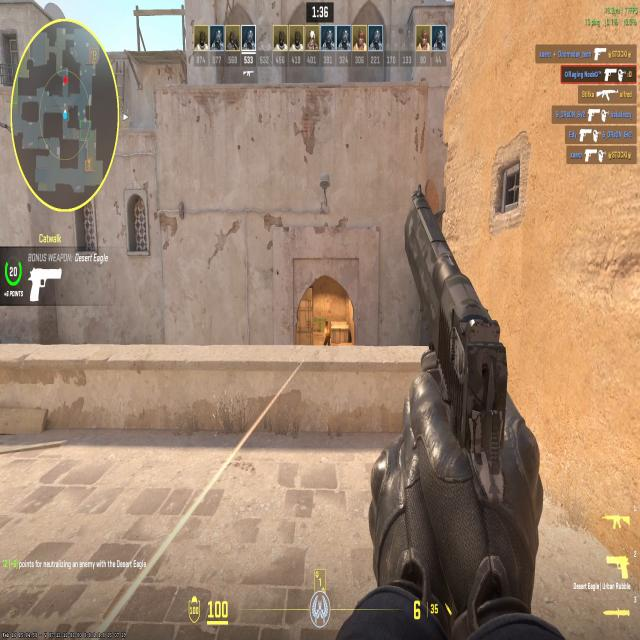player: (322, 319, 335, 345)
